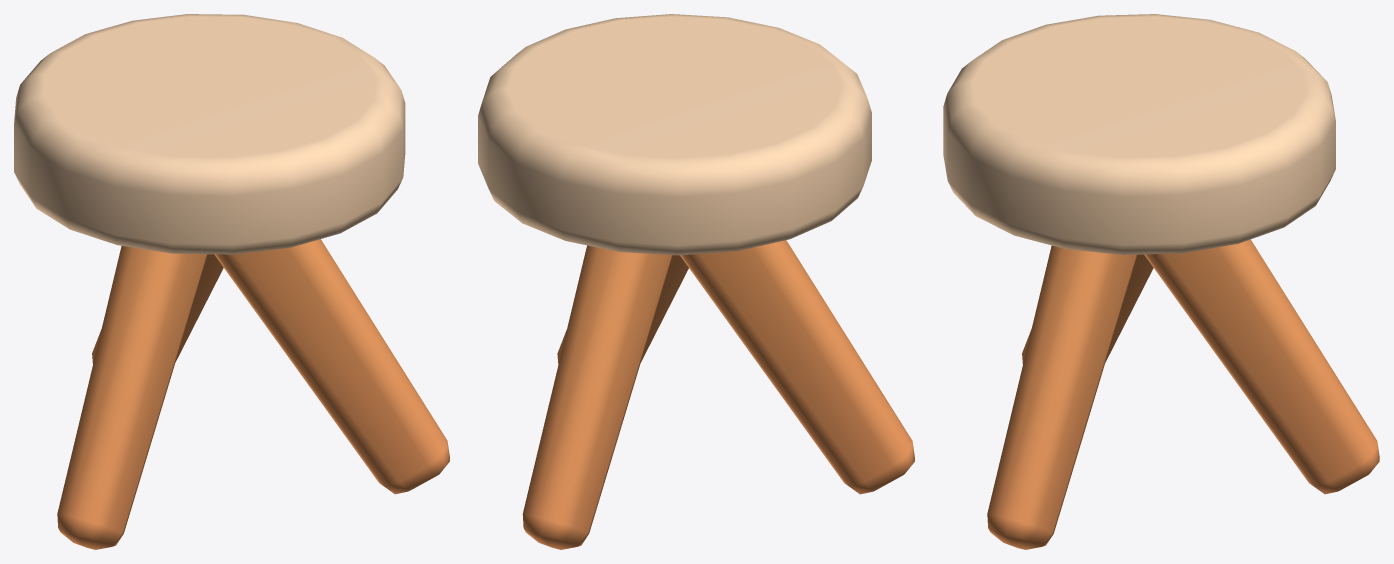
The model's file is Kitchen_stool_003.fbx.
The picture shows the model from 3 angles, left to right: view 1: azimuth 30°, elevation 25°; view 2: azimuth 150°, elevation 25°; view 3: azimuth 270°, elevation 25°; orthographic projection.
Parts seen in each view (by area): view 1: Kitchen_stool_003; view 2: Kitchen_stool_003; view 3: Kitchen_stool_003.
Boxes of the visible parts, x1,y1,x2,y2 form: Kitchen_stool_003: (14,14,449,549); Kitchen_stool_003: (478,14,914,549); Kitchen_stool_003: (943,14,1379,549).
Size of the model in its own units: 0.4554 by 0.464 by 0.465.
